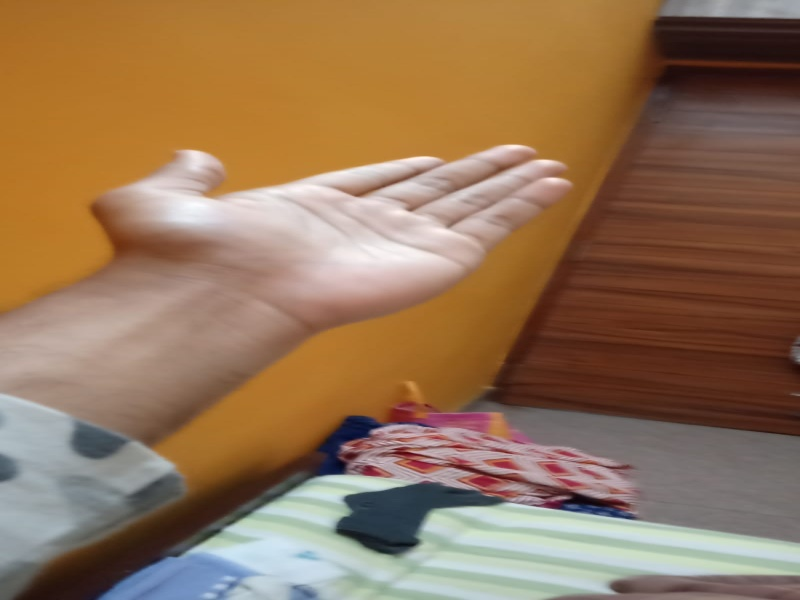Hand: (85, 130, 580, 344)
